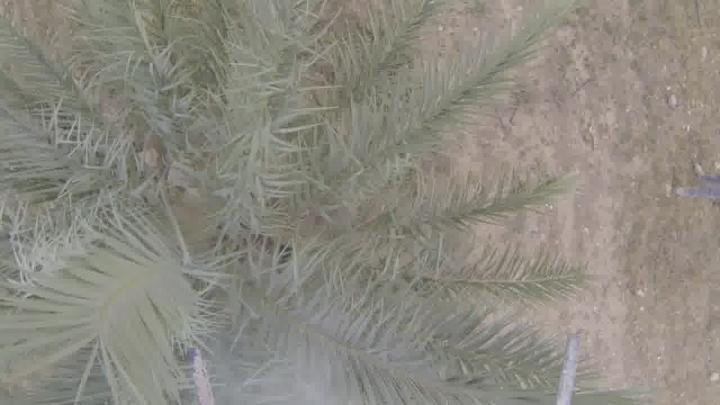Date-Palm-Crown: (0, 34, 416, 394)
